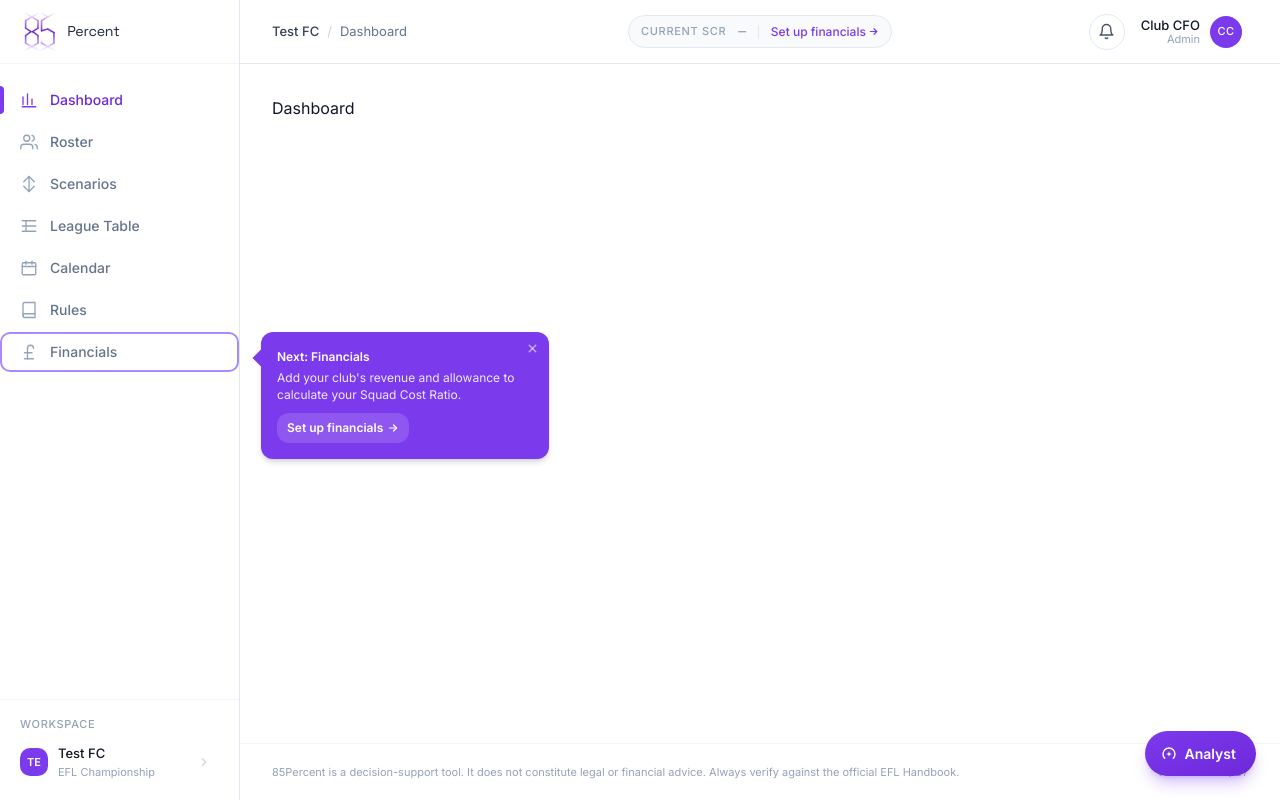
Test: onboarding UX: TopBar SCR widget + Step 1/2 coach-marks › scenario 6b: clicking "Set up financials" in the Step 2 coach-mark navigates to /financials
The image size is (1280, 800).
expect the text with test id "page" is shown: met, box [272, 98, 354, 118]
expect the text "Next: Financials" is shown: met, box [277, 349, 370, 364]
Click the button "Set up financials": click(343, 428) [277, 413, 409, 443]
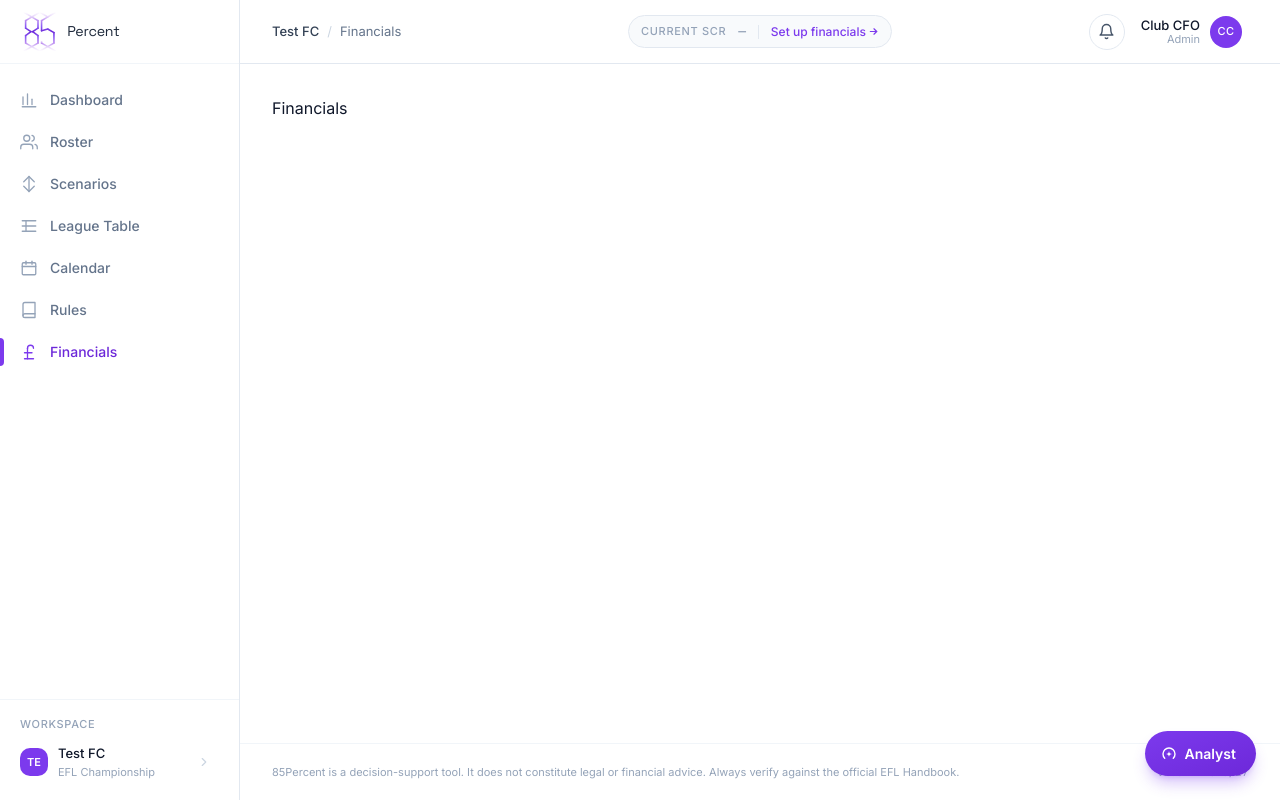
expect the text with test id "page" reads "Financials": met, box [272, 98, 348, 118]
